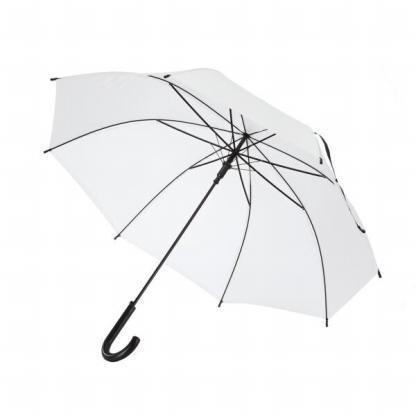Umbrella: (19, 67, 400, 382)
